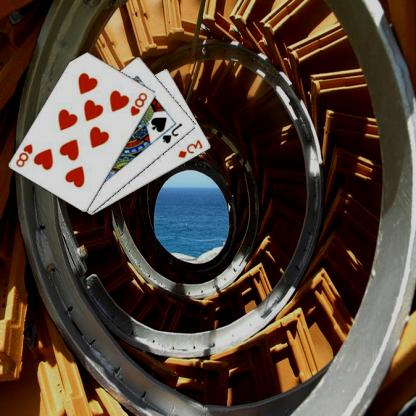3D: (177, 137, 206, 159)
8H: (130, 90, 151, 118), (16, 142, 36, 168)
JS: (162, 120, 186, 145)
